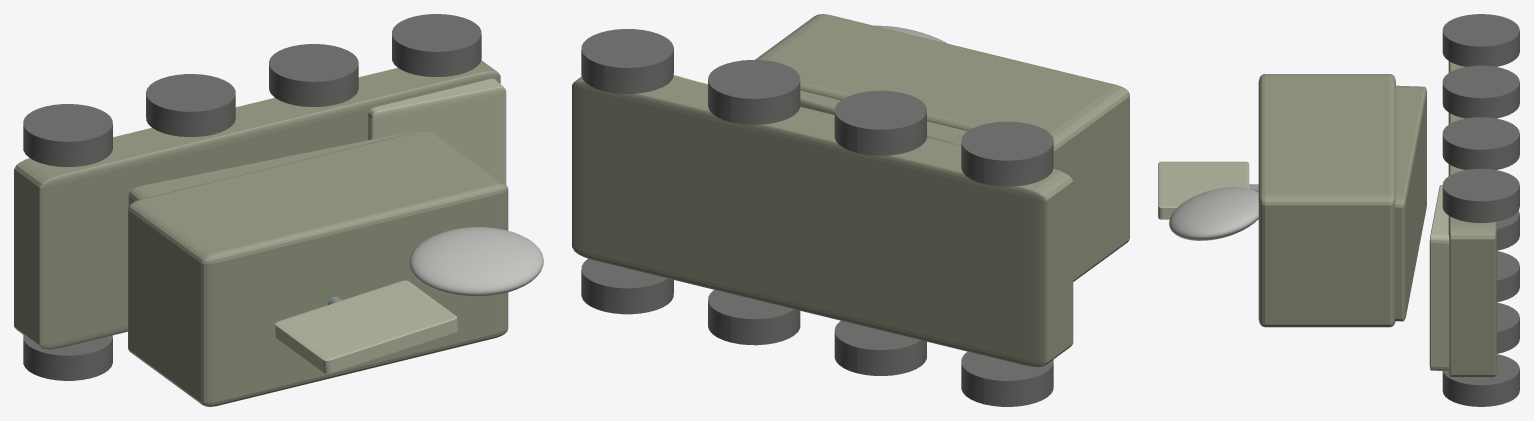
File: v-u21-vanguard-command-vehicle-lod1.glb
The picture shows the model from 3 angles, left to right: view 1: azimuth 30°, elevation 25°; view 2: azimuth 150°, elevation 25°; view 3: azimuth 270°, elevation 25°; orthographic projection. The views are drawn at different scales.
Parts seen in each view (by area): view 1: command_body, chassis_lower, command_array_array, chassis_nose, command_dish, chassis_wheel_1_3, chassis_wheel_1_0, chassis_wheel_1_2, chassis_wheel_1_1, chassis_wheel_-1_0, upper_hull; view 2: chassis_lower, command_body, chassis_wheel_1_0, chassis_wheel_1_1, chassis_wheel_1_3, chassis_wheel_1_2, chassis_wheel_-1_0, chassis_wheel_-1_3, chassis_wheel_-1_1, chassis_wheel_-1_2, upper_hull; view 3: command_body, chassis_lower, upper_hull, command_dish, chassis_wheel_1_3, chassis_wheel_1_1, chassis_wheel_1_0, chassis_wheel_1_2, chassis_nose, command_array_array, chassis_wheel_-1_3, chassis_wheel_-1_2 (+2 smaller).
Part boxes in pixels (bbox=[...]): command_body: bbox=[128, 130, 508, 406]; chassis_lower: bbox=[14, 60, 500, 349]; command_array_array: bbox=[274, 280, 458, 373]; chassis_nose: bbox=[368, 78, 506, 184]; command_dish: bbox=[409, 227, 543, 296]; chassis_wheel_1_3: bbox=[392, 14, 481, 76]; chassis_wheel_1_0: bbox=[23, 104, 112, 166]; chassis_wheel_1_2: bbox=[269, 44, 358, 106]; chassis_wheel_1_1: bbox=[146, 74, 235, 136]; chassis_wheel_-1_0: bbox=[23, 335, 112, 380]; upper_hull: bbox=[128, 131, 418, 206]; chassis_lower: bbox=[572, 76, 1073, 367]; command_body: bbox=[755, 14, 1129, 281]; chassis_wheel_1_0: bbox=[961, 121, 1053, 186]; chassis_wheel_1_1: bbox=[834, 90, 926, 155]; chassis_wheel_1_3: bbox=[581, 29, 673, 93]; chassis_wheel_1_2: bbox=[708, 60, 800, 124]; chassis_wheel_-1_0: bbox=[961, 351, 1053, 406]; chassis_wheel_-1_3: bbox=[581, 258, 673, 314]; chassis_wheel_-1_1: bbox=[834, 321, 926, 375]; chassis_wheel_-1_2: bbox=[708, 290, 800, 345]; upper_hull: bbox=[800, 90, 967, 145]; command_body: bbox=[1258, 74, 1395, 327]; chassis_lower: bbox=[1448, 61, 1496, 376]; upper_hull: bbox=[1394, 85, 1426, 321]; command_dish: bbox=[1169, 187, 1258, 240]; chassis_wheel_1_3: bbox=[1442, 168, 1519, 222]; chassis_wheel_1_1: bbox=[1442, 65, 1519, 118]; chassis_wheel_1_0: bbox=[1442, 14, 1519, 66]; chassis_wheel_1_2: bbox=[1442, 117, 1519, 169]; chassis_nose: bbox=[1429, 185, 1449, 371]; command_array_array: bbox=[1158, 161, 1249, 219]; chassis_wheel_-1_3: bbox=[1442, 354, 1519, 406]; chassis_wheel_-1_2: bbox=[1497, 302, 1519, 353].
Size of what is drawn, in the model's own units: 6.59 by 3.27 by 5.21.
